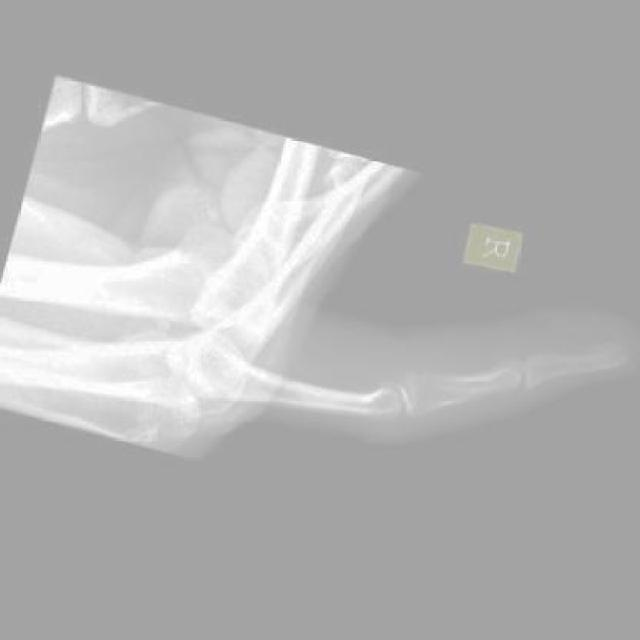Fracture: (402, 338, 522, 416)
